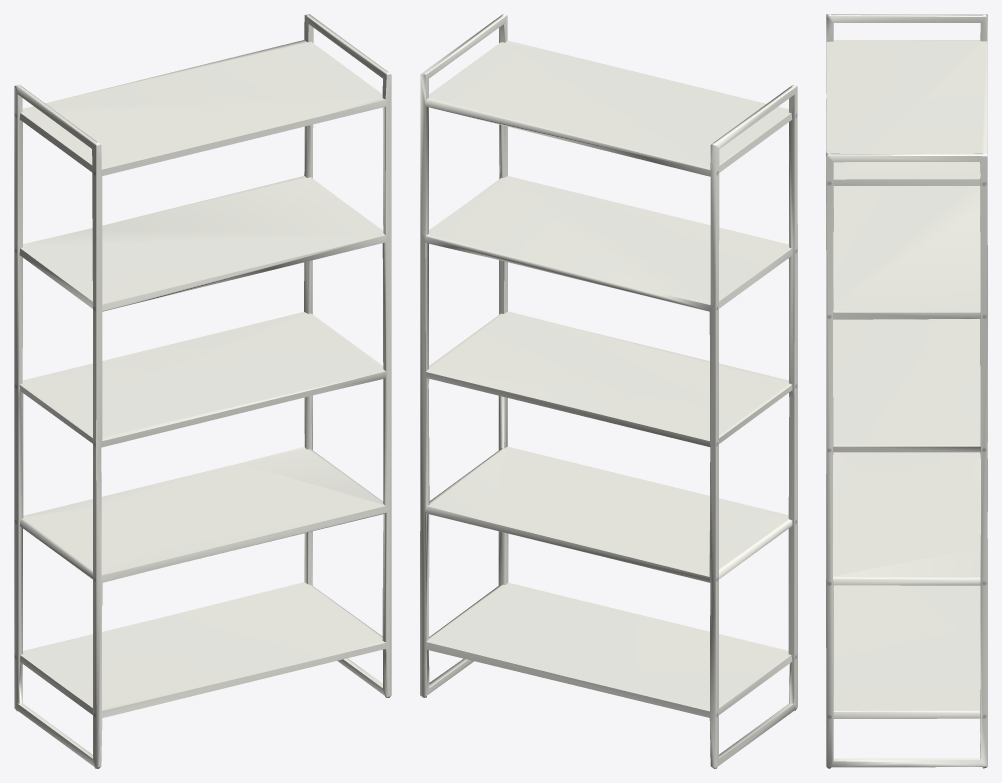
3 renders of one model, left to right at view 1: azimuth 30°, elevation 25°; view 2: azimuth 150°, elevation 25°; view 3: azimuth 270°, elevation 25°, orthographic.
Parts seen in each view (by area): view 1: ProcessedMeshNode; view 2: ProcessedMeshNode; view 3: ProcessedMeshNode.
Part boxes in pixels (<box>): ProcessedMeshNode: <box>14,14,391,768</box>; ProcessedMeshNode: <box>420,14,797,768</box>; ProcessedMeshNode: <box>826,14,987,768</box>.
Size of the model in its own units: 0.7961 by 1.6 by 0.3831.
1 material, 1 textured.
